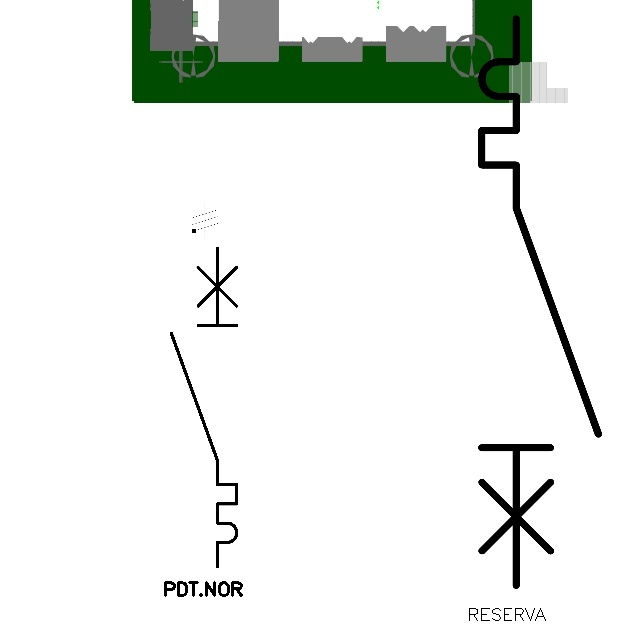interruptor_termomagnetico: (467, 4, 613, 600), (163, 239, 245, 574)
